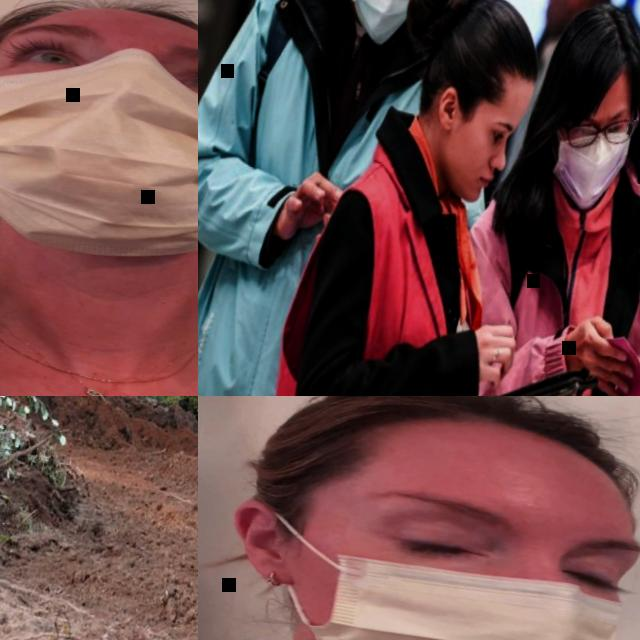Mask: (0, 17, 198, 286), (249, 531, 635, 640), (543, 121, 634, 215), (331, 0, 445, 56)
NO-Hardhat: (261, 396, 640, 532), (0, 0, 198, 68), (420, 0, 556, 95), (549, 0, 640, 94)
NO-Mask: (438, 144, 497, 203), (539, 2, 572, 36)
NO-Safety Vest: (198, 0, 444, 396), (272, 157, 521, 396), (440, 187, 640, 396), (0, 229, 198, 396)
Person: (257, 0, 636, 396), (198, 0, 478, 396), (198, 396, 640, 640), (418, 0, 640, 396), (0, 0, 198, 396), (534, 0, 623, 61)
